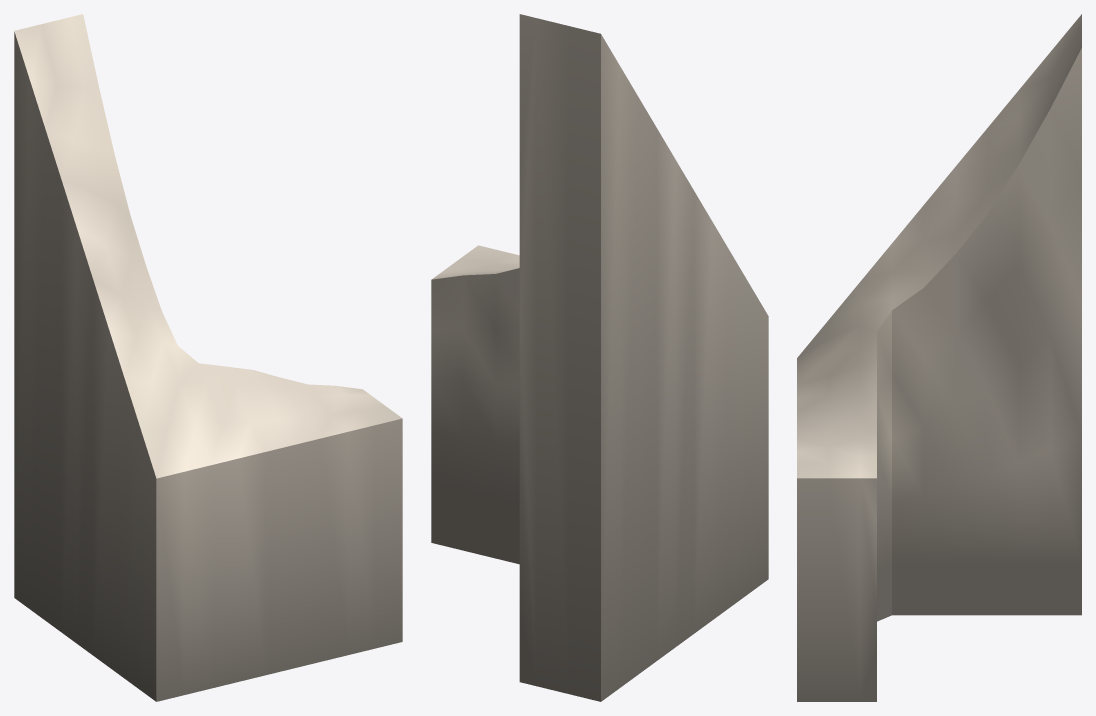
Rendered from SM_VKI_Rock_Cave_CCOF_WallEN.fbx.
The picture shows the model from 3 angles, left to right: view 1: azimuth 30°, elevation 25°; view 2: azimuth 150°, elevation 25°; view 3: azimuth 270°, elevation 25°; orthographic projection. The views are drawn at different scales.
Parts seen in each view (by area): view 1: SM_VKI_Rock_Cave_CCOF_WallEN.001; view 2: SM_VKI_Rock_Cave_CCOF_WallEN.001; view 3: SM_VKI_Rock_Cave_CCOF_WallEN.001.
Boxes of the visible parts, x1,y1,x2,y2 form: SM_VKI_Rock_Cave_CCOF_WallEN.001: (14, 14, 402, 701); SM_VKI_Rock_Cave_CCOF_WallEN.001: (431, 14, 768, 701); SM_VKI_Rock_Cave_CCOF_WallEN.001: (797, 14, 1081, 701).
Bounding box in the file's own units: 1.5 × 3.3 × 1.5.
